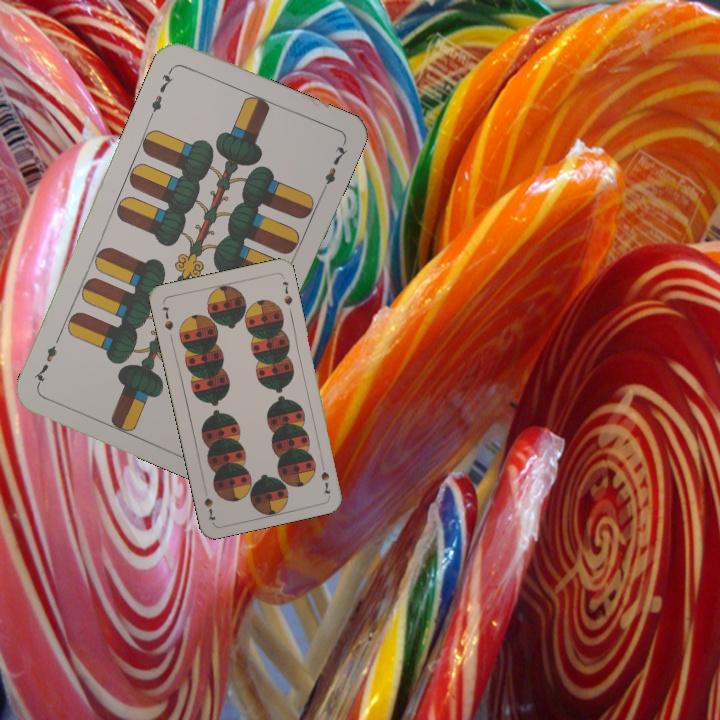E7: (145, 64, 176, 120)
S7: (317, 457, 333, 497), (158, 302, 176, 333)
